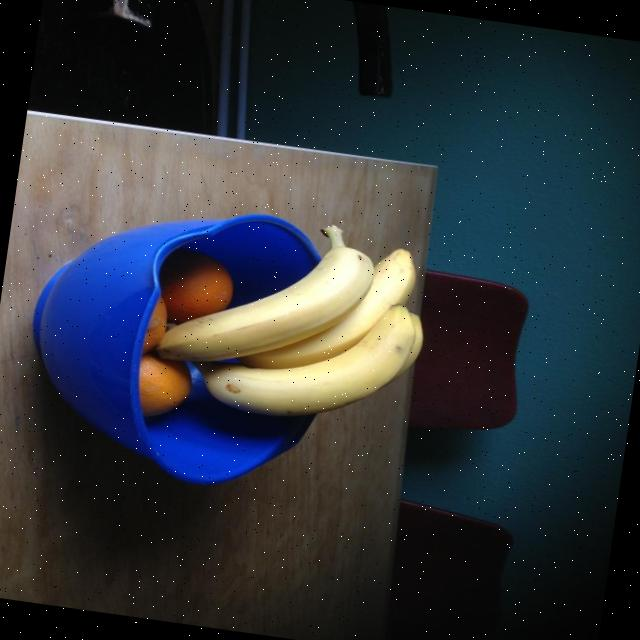banana: (153, 237, 373, 362), (193, 303, 422, 416)
